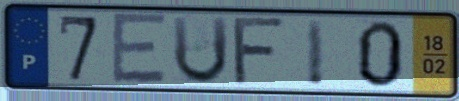0: (354, 19, 407, 90)
7: (57, 13, 101, 82)
E: (109, 11, 169, 87)
F: (230, 16, 290, 88)
I: (303, 16, 327, 89)
U: (169, 14, 231, 88)
